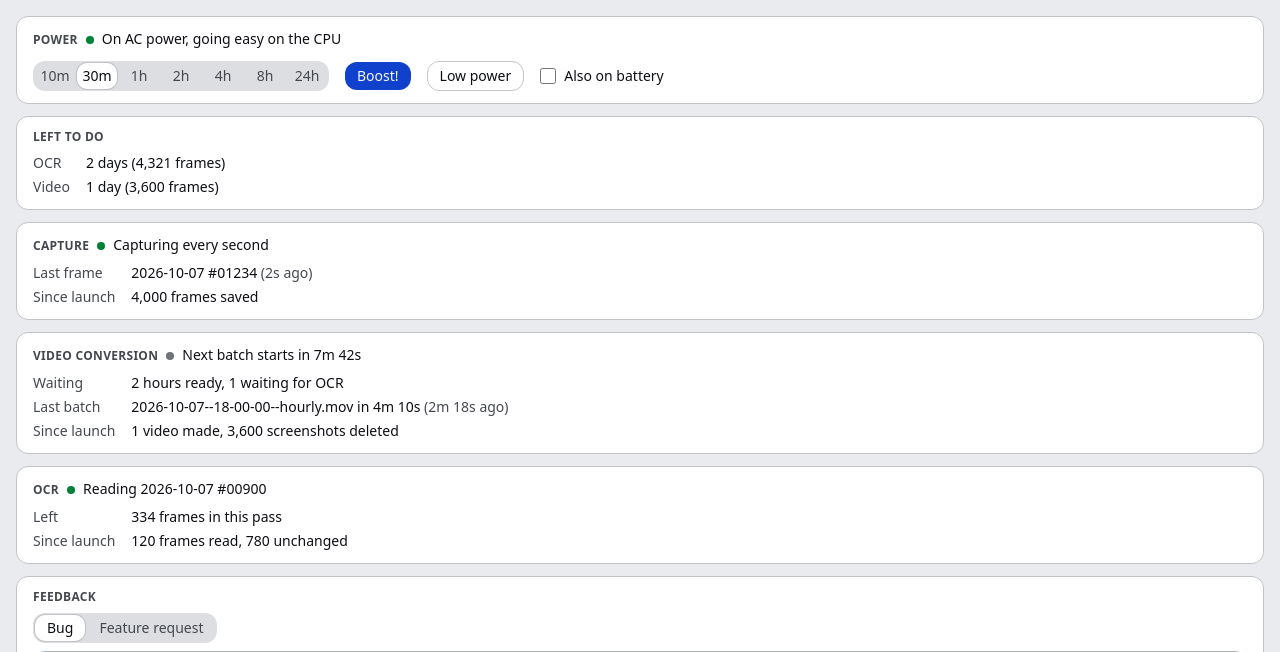
Scenario: ActivityView › boost › starts a boost of the chosen length
The width and height of the screenshot is (1280, 652).
Expected: the text with test id "Power-headline" reads "On AC power, going easy on the CPU", [102, 29, 341, 48]
Click the button "1h" at (139, 76), box [119, 63, 159, 89]
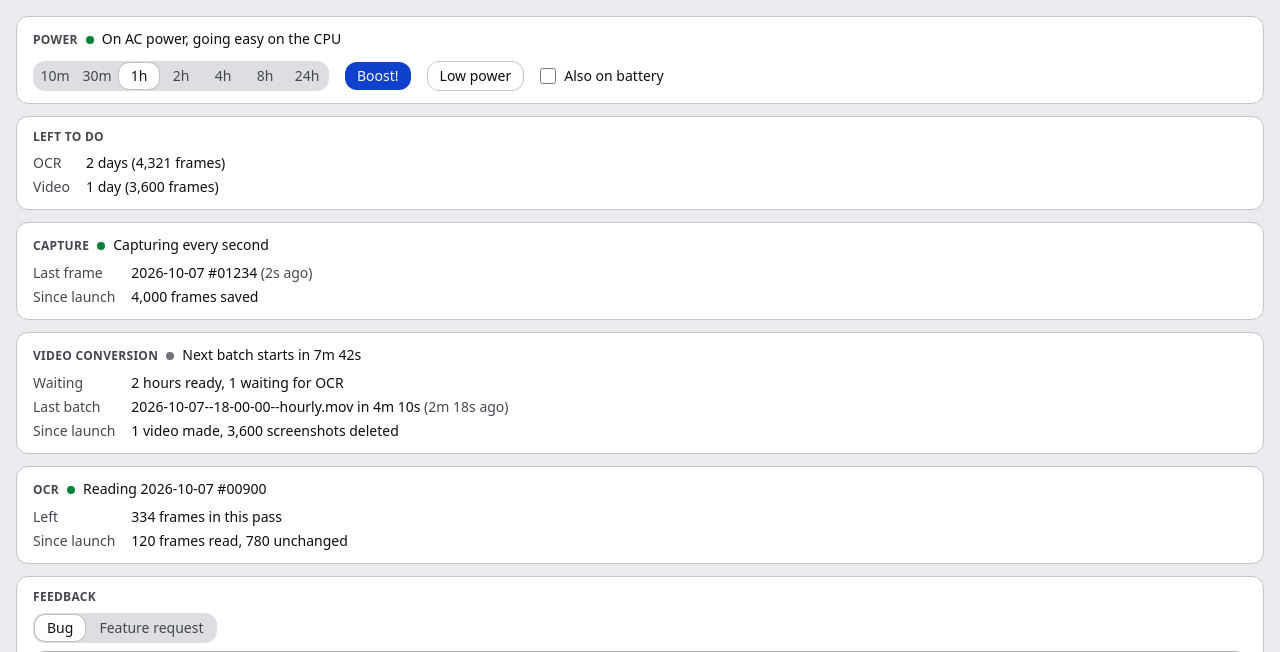
Now the button "1h" is pressed, box [119, 63, 159, 89]
Click the checkbox labelled "Also on battery" at (548, 76), box [540, 68, 556, 84]
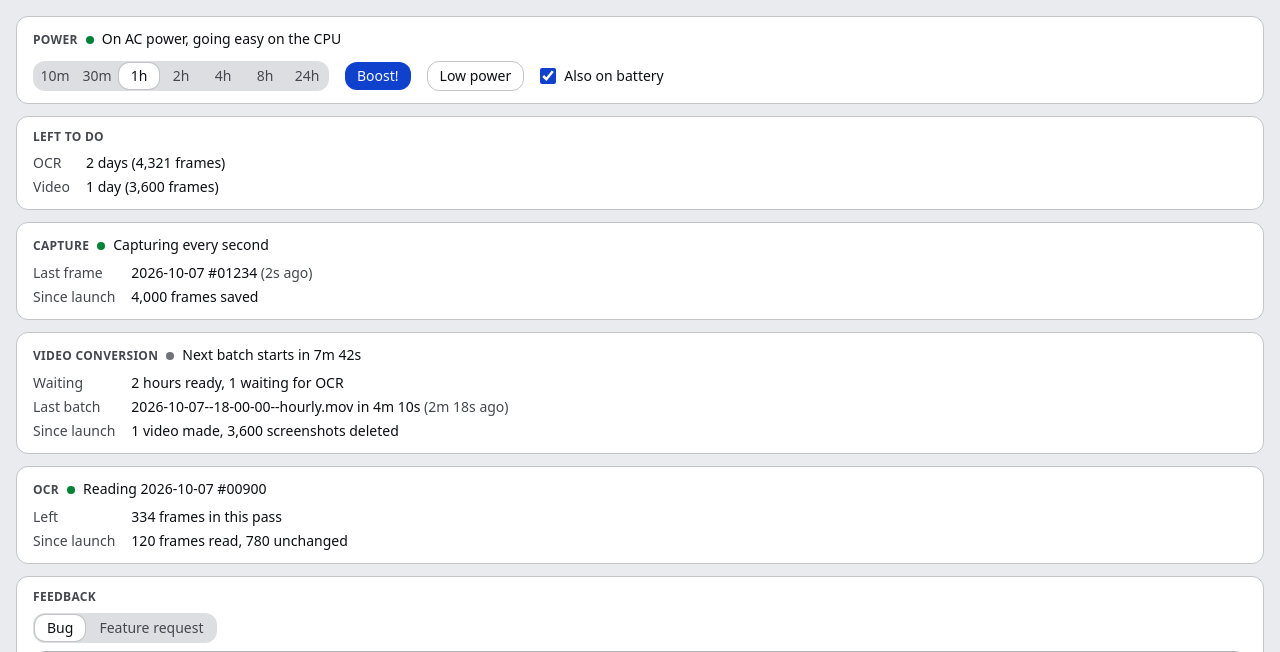
Click the button "Boost!" at (378, 76), box [345, 62, 411, 90]
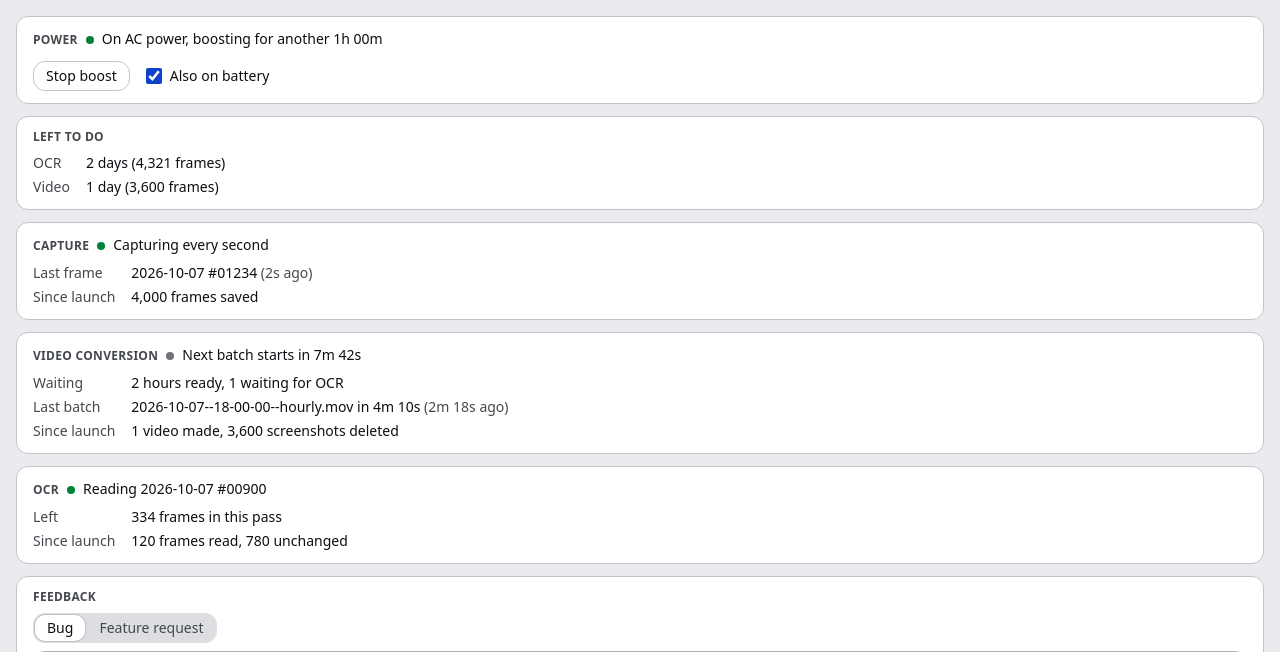
Now the text with test id "Power-headline" reads "On AC power, boosting for another 1h 00m", box [102, 29, 383, 48]
Now the button "Stop boost" is shown, box [33, 61, 130, 91]
